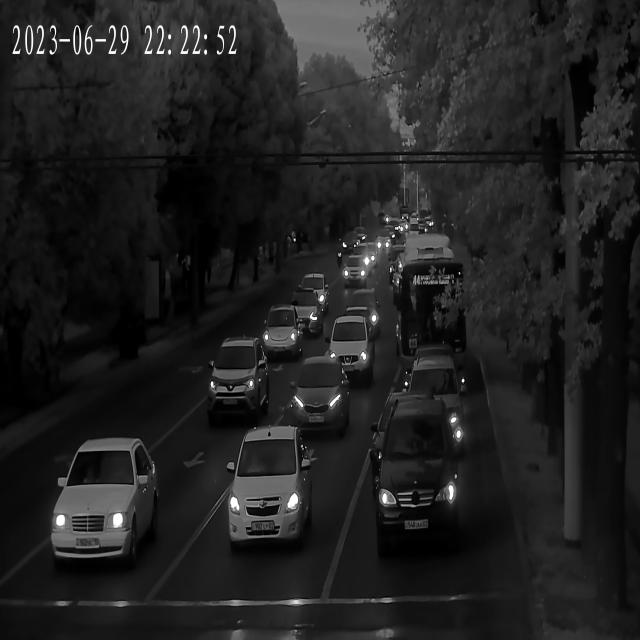Bus: (396, 236, 461, 374)
Car: (54, 437, 161, 569), (372, 396, 462, 530), (222, 428, 313, 548), (198, 338, 271, 423), (386, 389, 460, 461), (294, 361, 352, 439), (322, 318, 376, 387), (253, 310, 307, 363), (274, 288, 322, 338), (408, 343, 462, 386), (335, 304, 380, 345), (342, 291, 383, 334), (290, 273, 329, 315), (341, 261, 370, 287), (376, 237, 392, 251)
